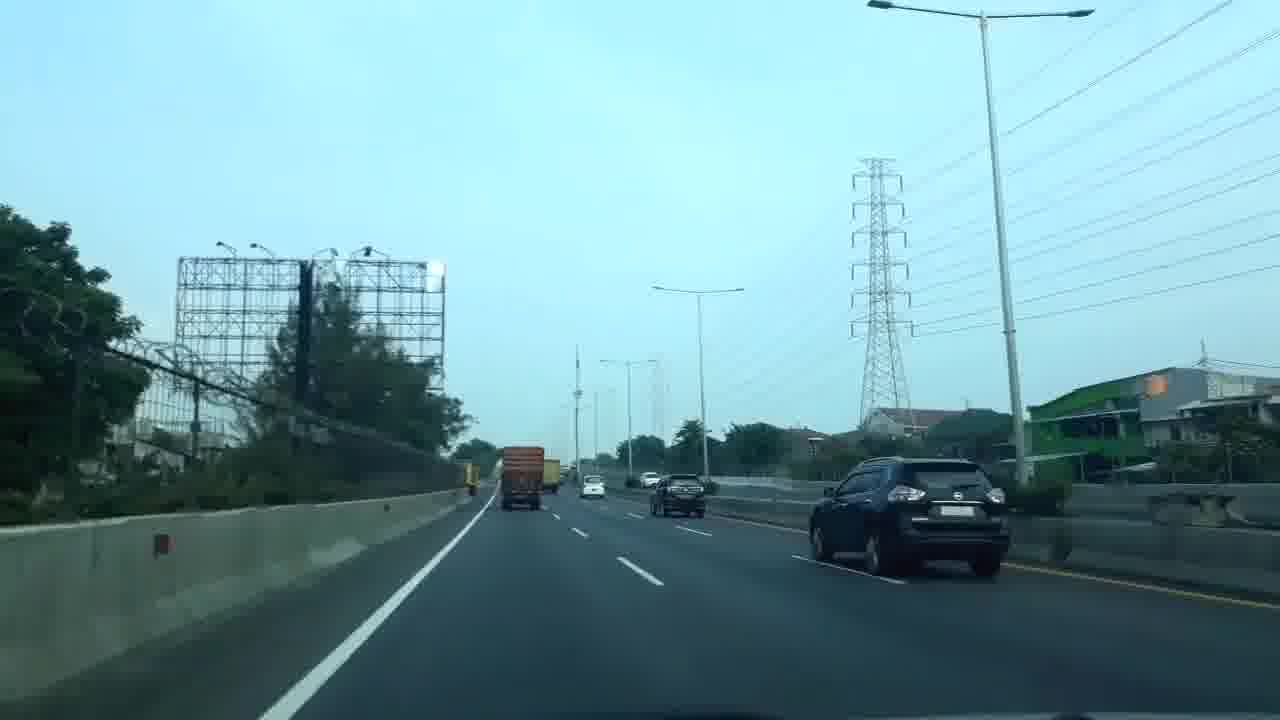plate_positive: (941, 505, 976, 518)
